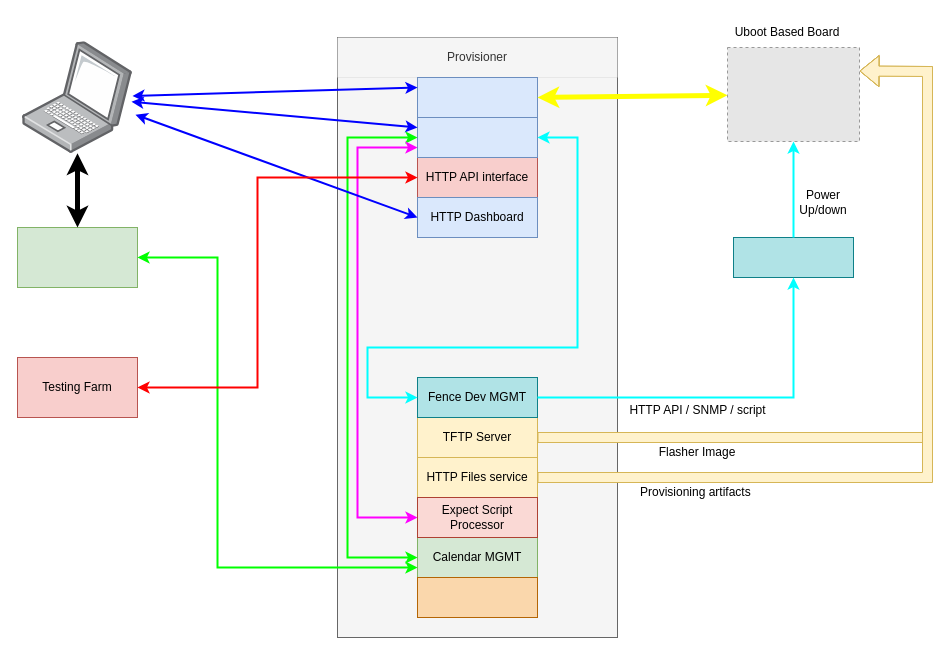
Some shapes in this 950 by 655 pixel diagram are drawn without their labels. Grey dashed boxes stand in for pictures. Each missing label, with the box of its shape:
Calendar: (16, 226, 138, 288)
Fence Dev: (732, 236, 854, 278)
Logging Service: (416, 576, 538, 618)
SSH Control CLI: (416, 116, 538, 158)
SSH Serial Tunnel: (416, 76, 538, 118)
